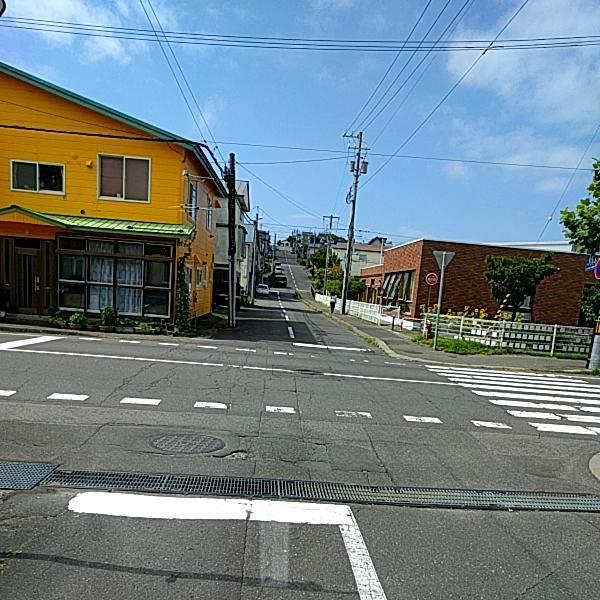pothole: (212, 450, 247, 459), (293, 369, 324, 376)
